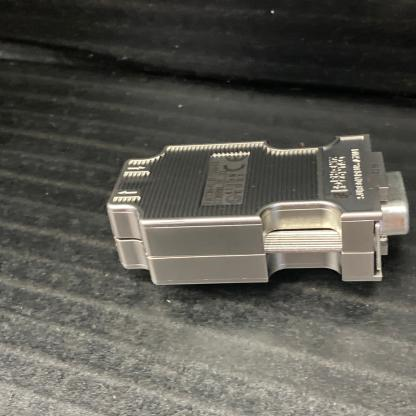SP0000010: (74, 89, 416, 342)
